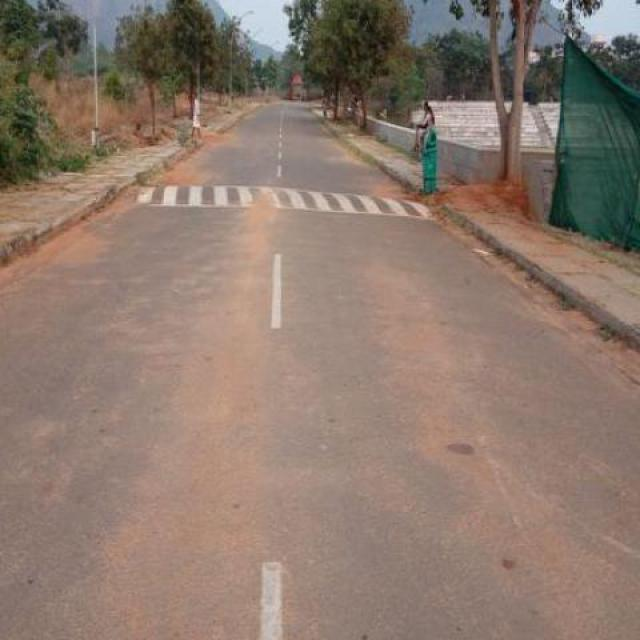Speed Bump: (128, 178, 431, 217)
